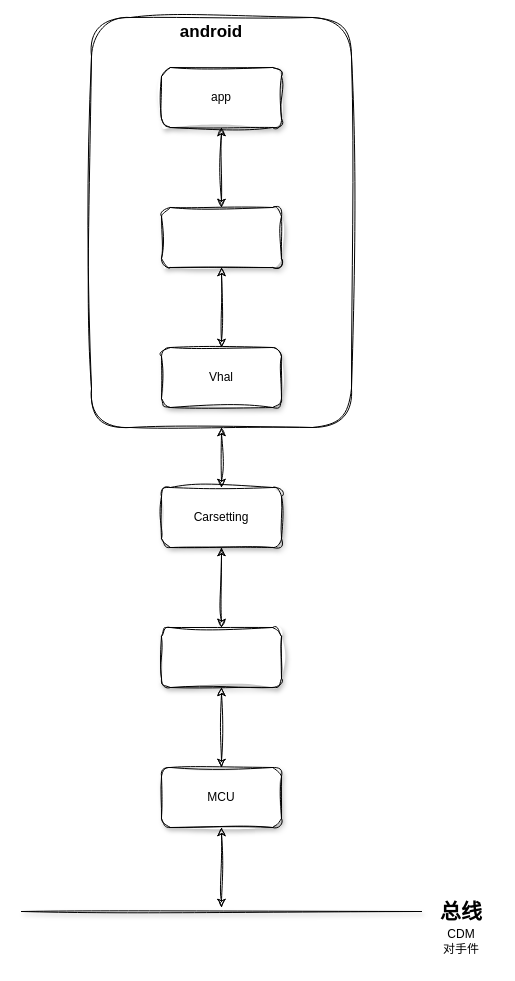
Image size: 515x981. Some labels were removed from this diagram. Here are the shapes that lost their labels. From the top down, the centre of each, then its label:
At (222,238): "framework".
At (222,658): "vehicle_service".
